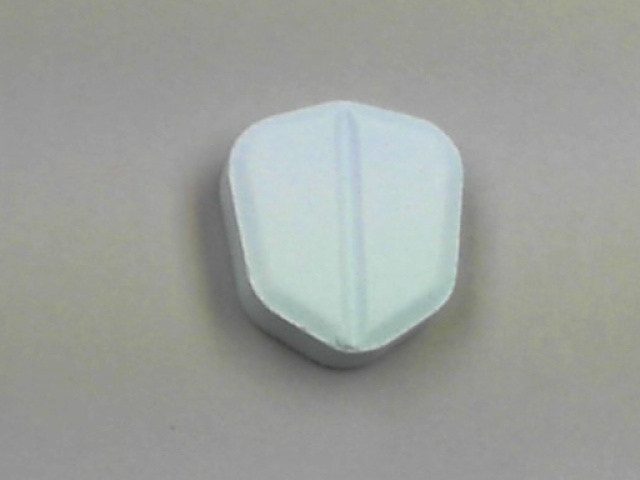|: (324, 97, 383, 358)
